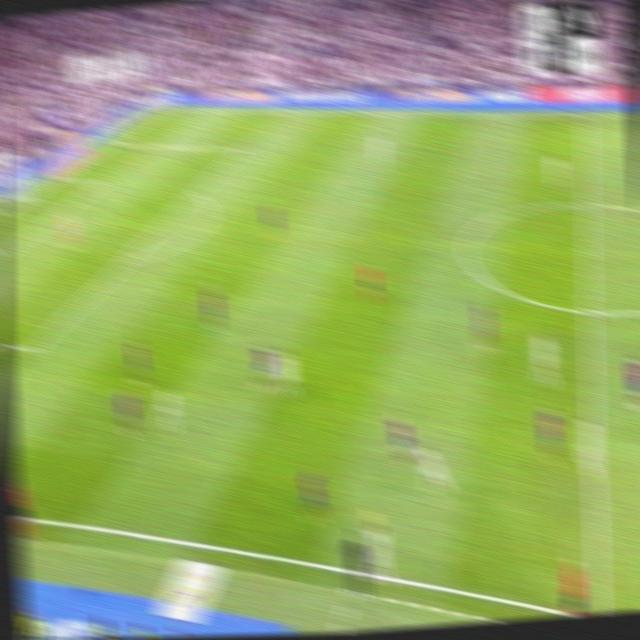bigarea_bottom_inner: (24, 337, 41, 360)
bigarea_top_inner: (234, 142, 248, 156)
bigarea_top_outter: (104, 136, 118, 149)
bottom_arc_area_intersection: (119, 252, 135, 269)
corner: (155, 103, 170, 114)
halfcircle_bottom: (579, 298, 599, 324)
halfcircle_top: (578, 192, 597, 216)
midline_bottom_intersection: (589, 607, 608, 615)
midline_top_intersection: (578, 108, 594, 124)
smallarea_top_inner: (96, 176, 109, 187)
top_arc_area_intersection: (189, 185, 204, 199)
